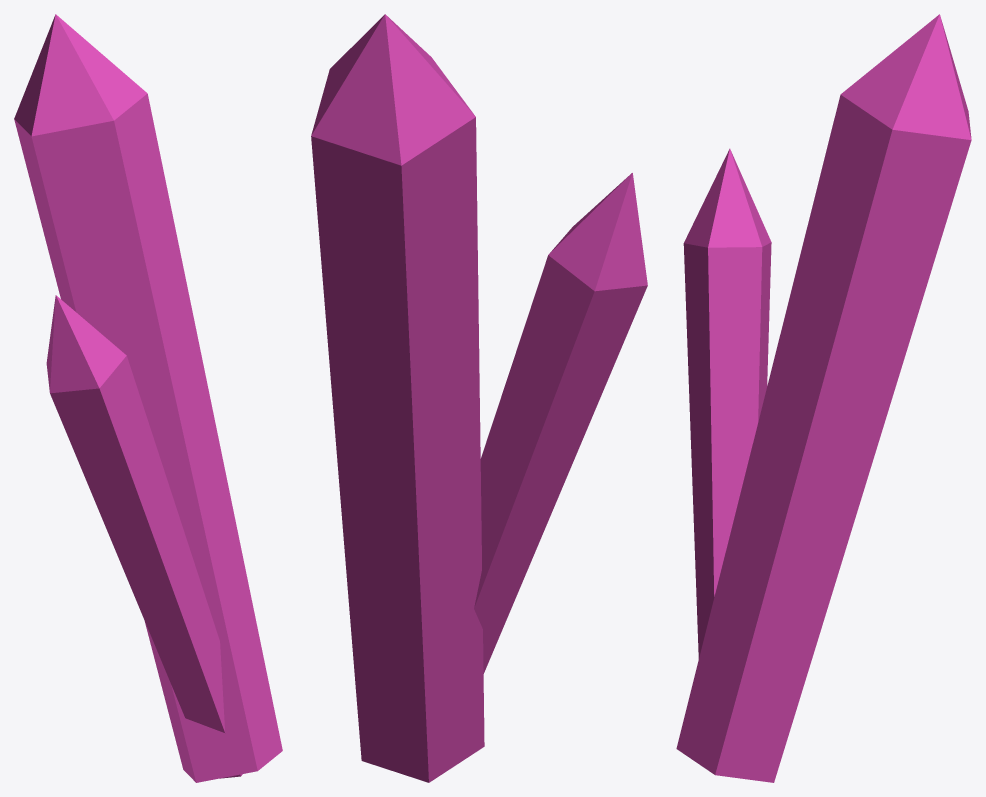
The model's file is small_crystals_11_3.fbx.
3 renders of one model, left to right at view 1: azimuth 30°, elevation 25°; view 2: azimuth 150°, elevation 25°; view 3: azimuth 270°, elevation 25°, orthographic. The views are drawn at different scales.
Visible parts, largest first — view 1: small crystals.017; view 2: small crystals.017; view 3: small crystals.017.
Part boxes in pixels (bbox=[...]): small crystals.017: bbox=[14, 14, 282, 782]; small crystals.017: bbox=[311, 14, 647, 782]; small crystals.017: bbox=[676, 14, 971, 782].
Bounding box in the file's own units: 105 × 309 × 114.
